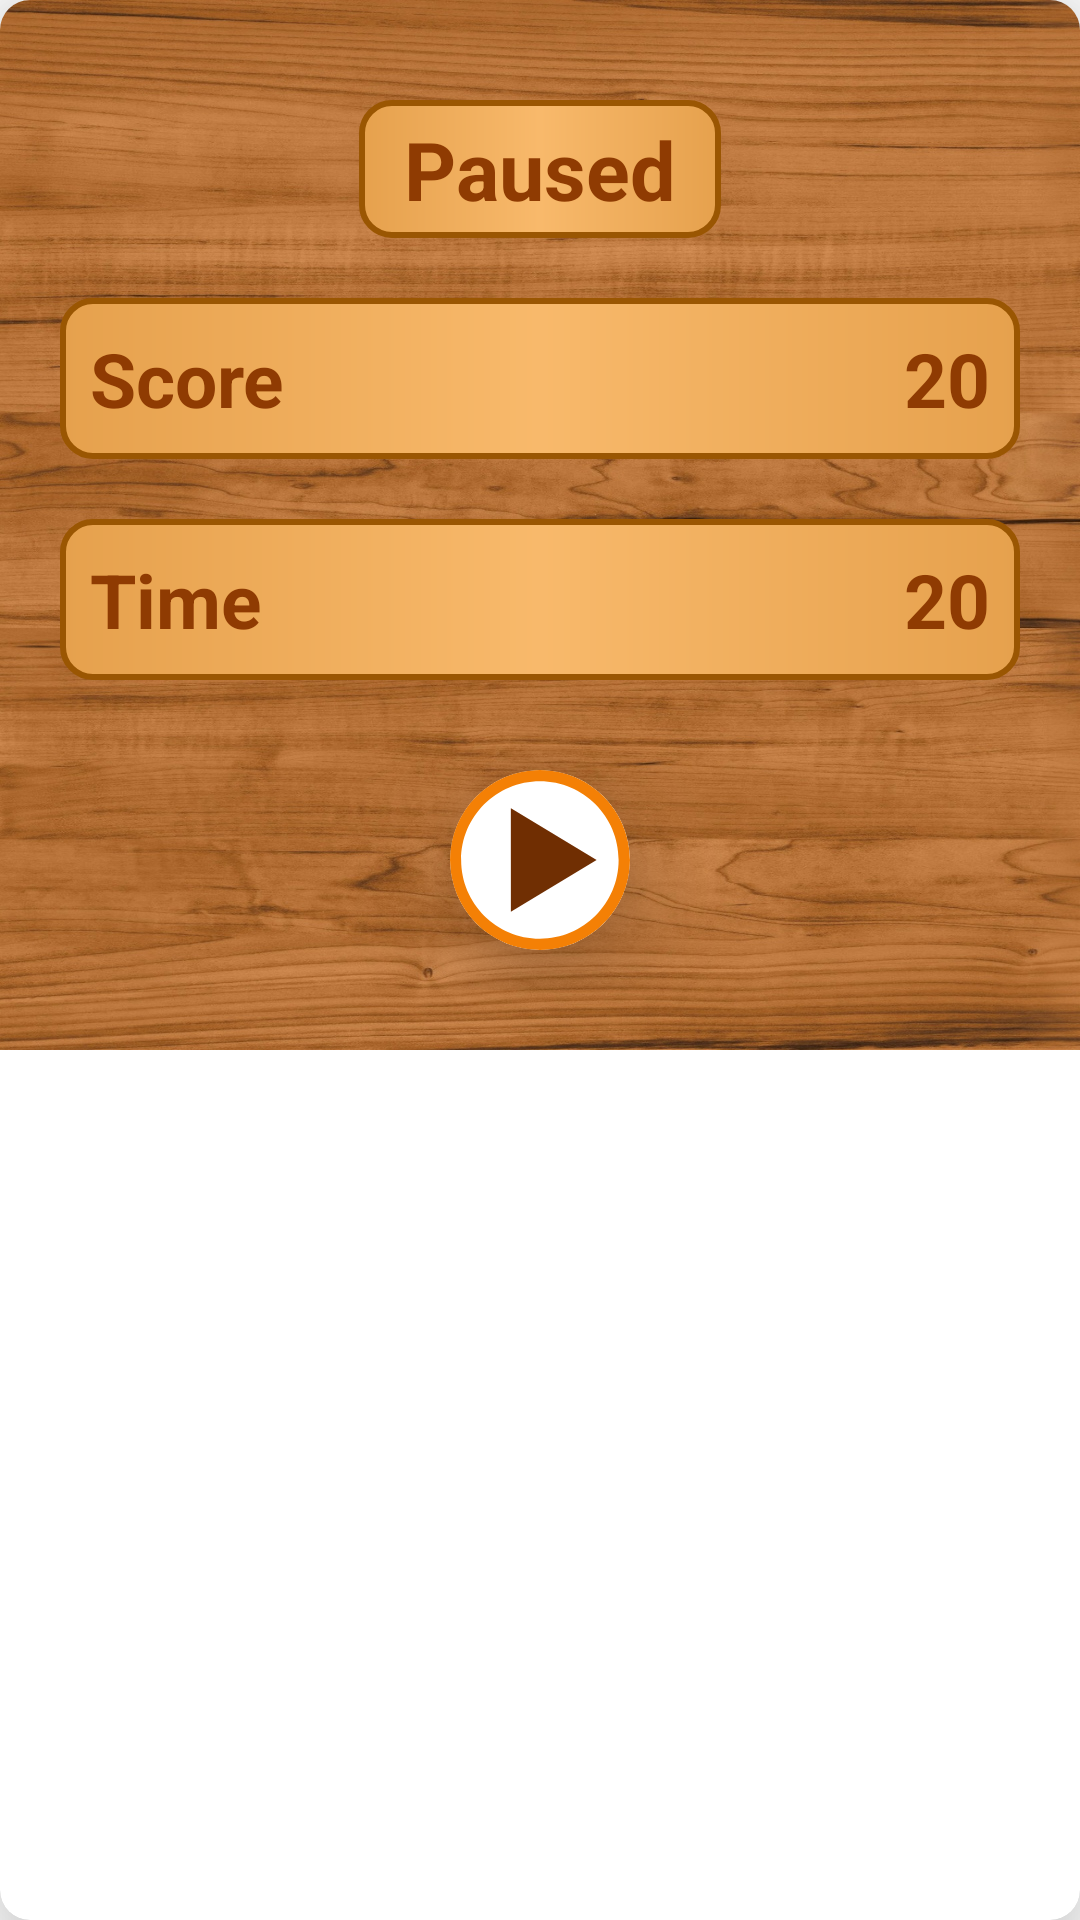

Locate icon controls on the screen. Image size 1080 × 1920, boxes as [x1=x1, y1=y1, x2=x2, y2=y2].
play: [x1=450, y1=770, x2=630, y2=950]
